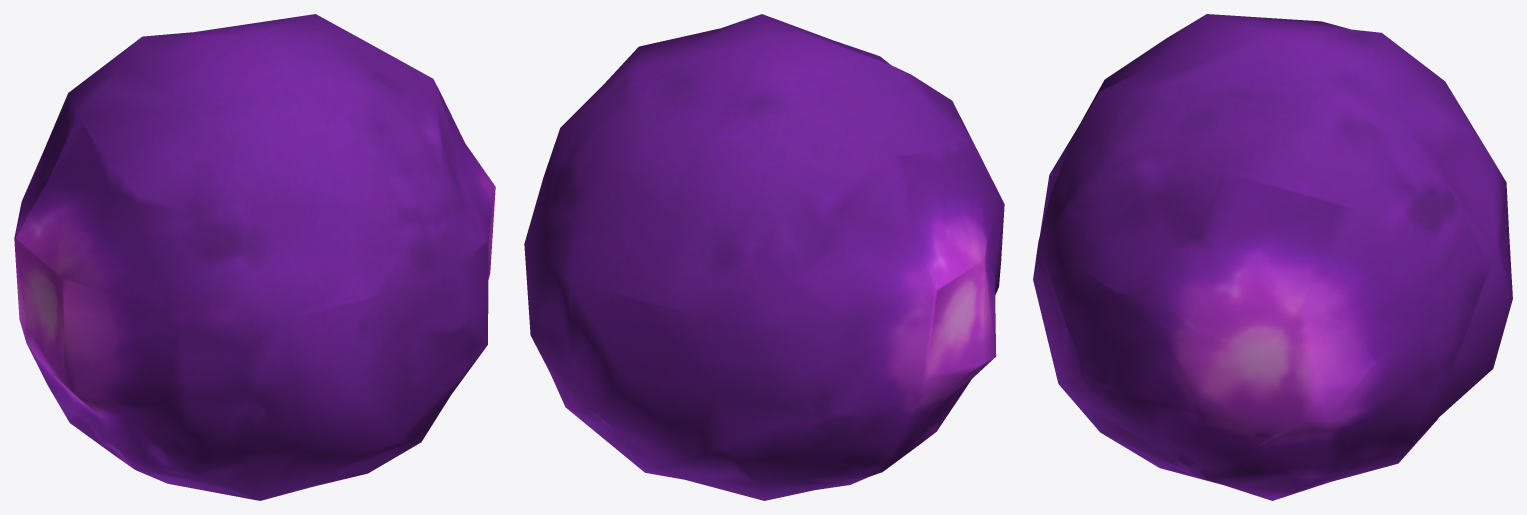
Rendered from M_Poison_Bullet.obj.
3 renders of one model, left to right at view 1: azimuth 30°, elevation 25°; view 2: azimuth 150°, elevation 25°; view 3: azimuth 270°, elevation 25°, orthographic.
Visible parts, largest first — view 1: tripo_node_199dfb2e-4494-4bc7-9941-9b7c1c8e07f9; view 2: tripo_node_199dfb2e-4494-4bc7-9941-9b7c1c8e07f9; view 3: tripo_node_199dfb2e-4494-4bc7-9941-9b7c1c8e07f9.
Part boxes in pixels (bbox=[...]): tripo_node_199dfb2e-4494-4bc7-9941-9b7c1c8e07f9: bbox=[14, 14, 495, 500]; tripo_node_199dfb2e-4494-4bc7-9941-9b7c1c8e07f9: bbox=[524, 14, 1004, 500]; tripo_node_199dfb2e-4494-4bc7-9941-9b7c1c8e07f9: bbox=[1033, 14, 1512, 500].
Size of the model in its own units: 0.9705 by 0.9626 by 0.9786.
1 material, 1 textured.
